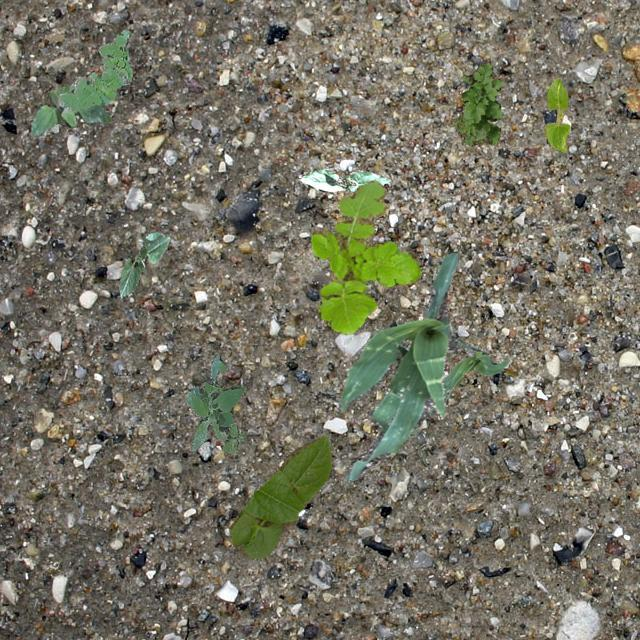crop: (338, 252, 458, 480), (228, 436, 330, 558), (428, 338, 506, 416), (119, 232, 170, 298), (298, 168, 390, 190), (542, 76, 568, 152)
weed: (310, 180, 420, 334), (58, 28, 132, 110), (184, 353, 244, 452), (454, 60, 502, 146), (31, 84, 108, 136)
